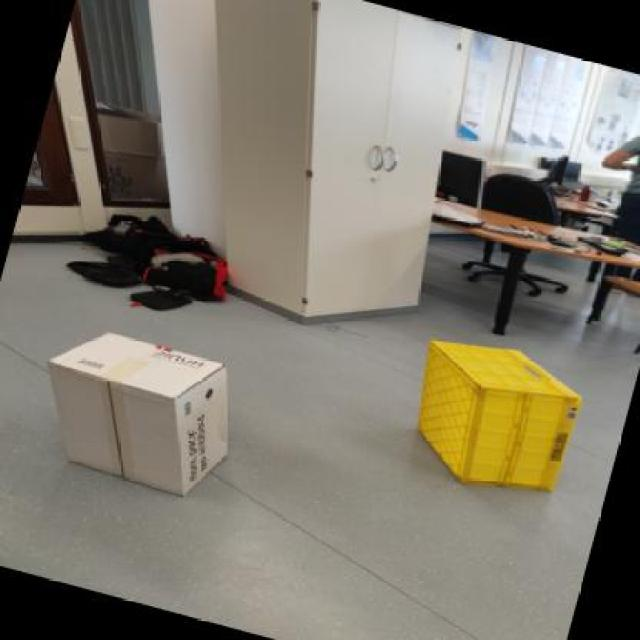box: (12, 284, 282, 538), (389, 312, 613, 523)
